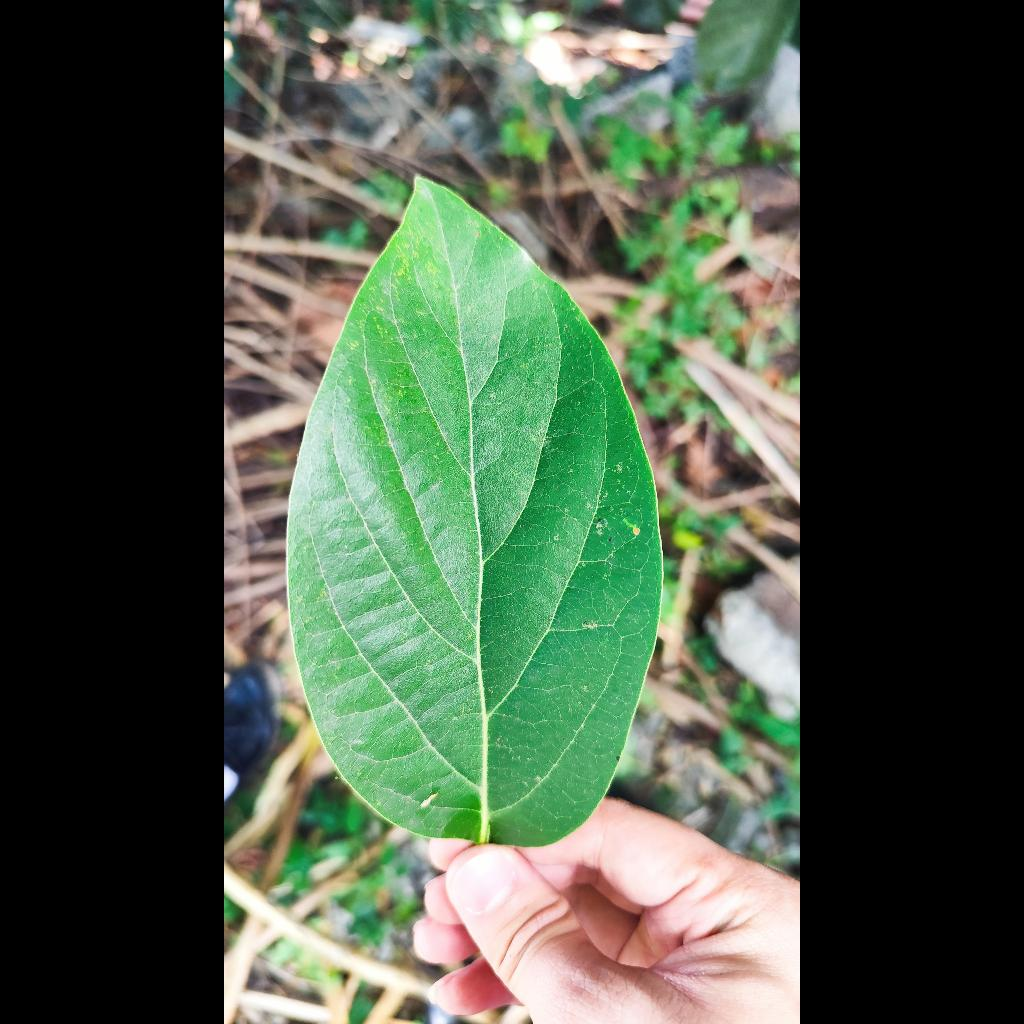Healthy: (288, 179, 661, 845)
